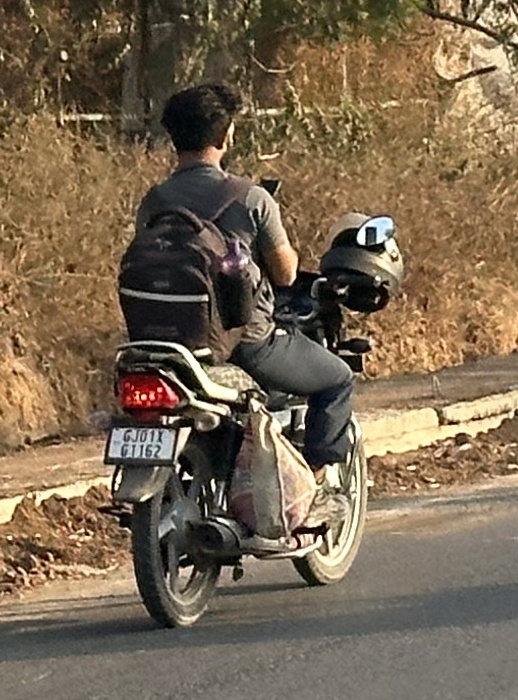BikeWithRider: (103, 81, 406, 629)
NoHelmet: (160, 82, 244, 173)
